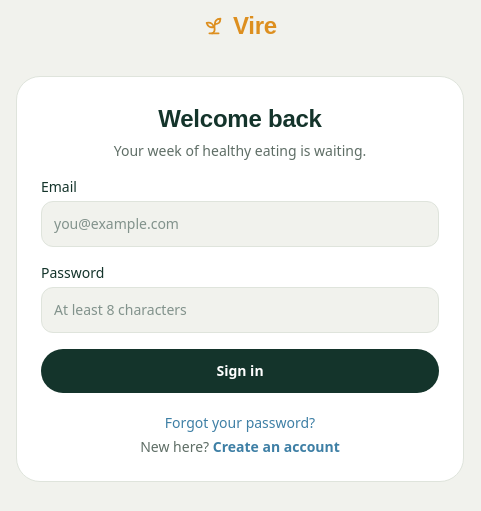
it: invite-only registration › explains the refusal instead of looking like a typo
This screenshot has width=481, height=511.
Click the button "Create an account" at [276, 447], box [213,437,340,457]
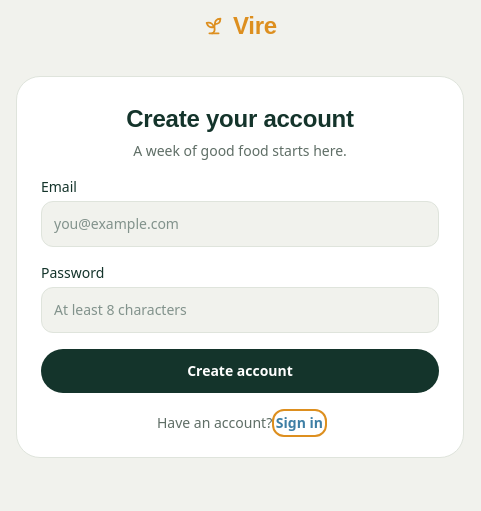
Type "stranger@example.com" into the field labelled "Email" at [240, 224], box [41,201,439,247]
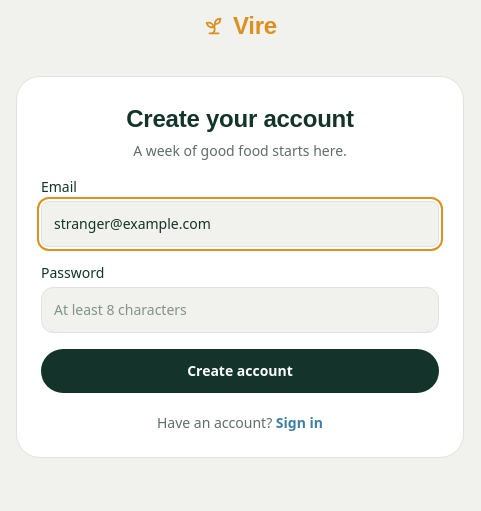
Type "correct horse" into the password field labelled "Password" at [240, 310], box [41,287,439,333]
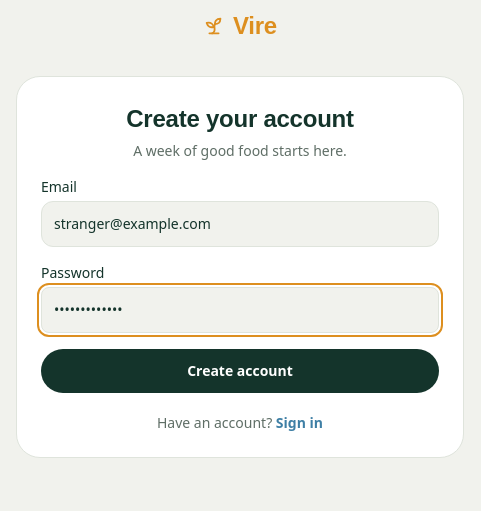
Click the button "Create account" at [240, 371], box [41,349,439,393]
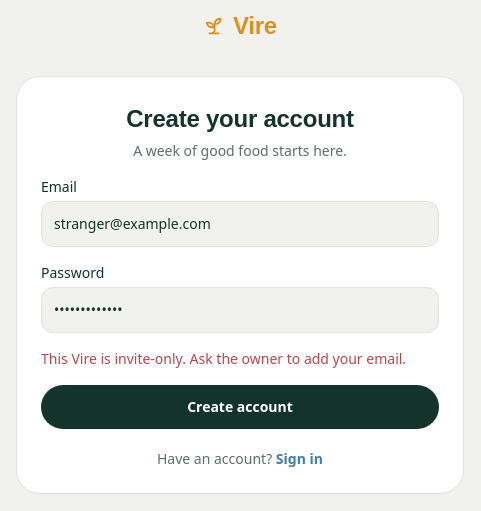
expect the message reads "This Vire is invite-only. Ask the owner to add your email.": met, box [41,349,406,368]
